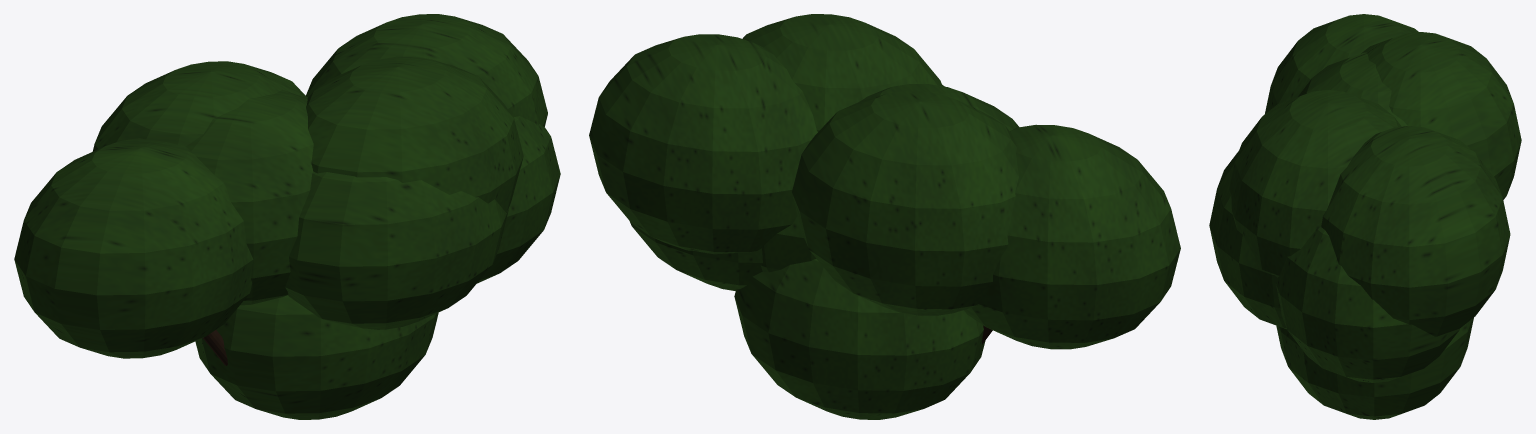
File: PROP-1BA4EAB36F19_lod0.glb
The picture shows the model from 3 angles, left to right: view 1: azimuth 30°, elevation 25°; view 2: azimuth 150°, elevation 25°; view 3: azimuth 270°, elevation 25°; orthographic projection. The views are drawn at different scales.
Visible parts, largest first — view 1: foliage.012; view 2: foliage.012; view 3: foliage.012.
Part boxes in pixels (x1,y1,x2,y2): foliage.012: (14,14,560,419); foliage.012: (589,14,1180,419); foliage.012: (1209,14,1521,419).
Size of the model in its own units: 1.4 by 0.8664 by 0.7422.
Materials: 2 (2 with a texture image).
